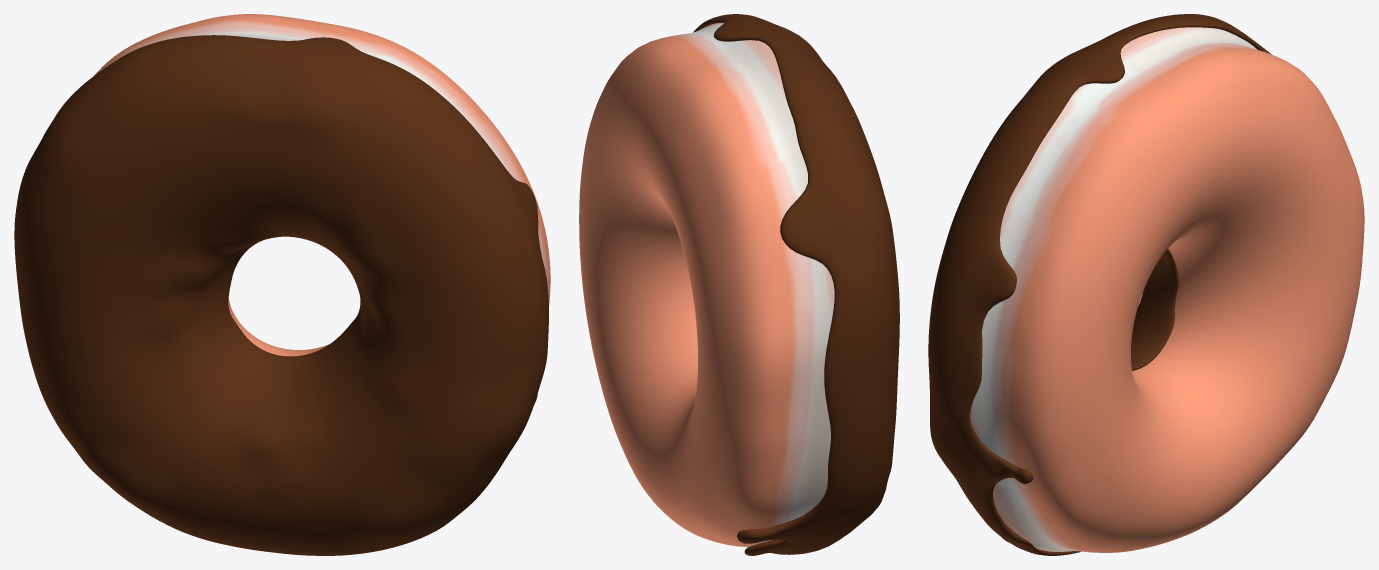
File: donut.glb
3 renders of one model, left to right at view 1: azimuth 30°, elevation 25°; view 2: azimuth 150°, elevation 25°; view 3: azimuth 270°, elevation 25°, orthographic. The views are drawn at different scales.
Visible parts, largest first — view 1: Icing, Donut; view 2: Donut, Icing; view 3: Donut, Icing.
Part boxes in pixels (x1,y1,x2,y2): Icing: [14, 35, 548, 555]; Donut: [94, 14, 550, 356]; Donut: [579, 23, 834, 547]; Icing: [693, 14, 899, 555]; Donut: [970, 27, 1364, 552]; Icing: [928, 14, 1313, 555].
Size of the model in its own units: 0.0831 by 0.0972 by 0.0783.
2 materials, 1 textured.
